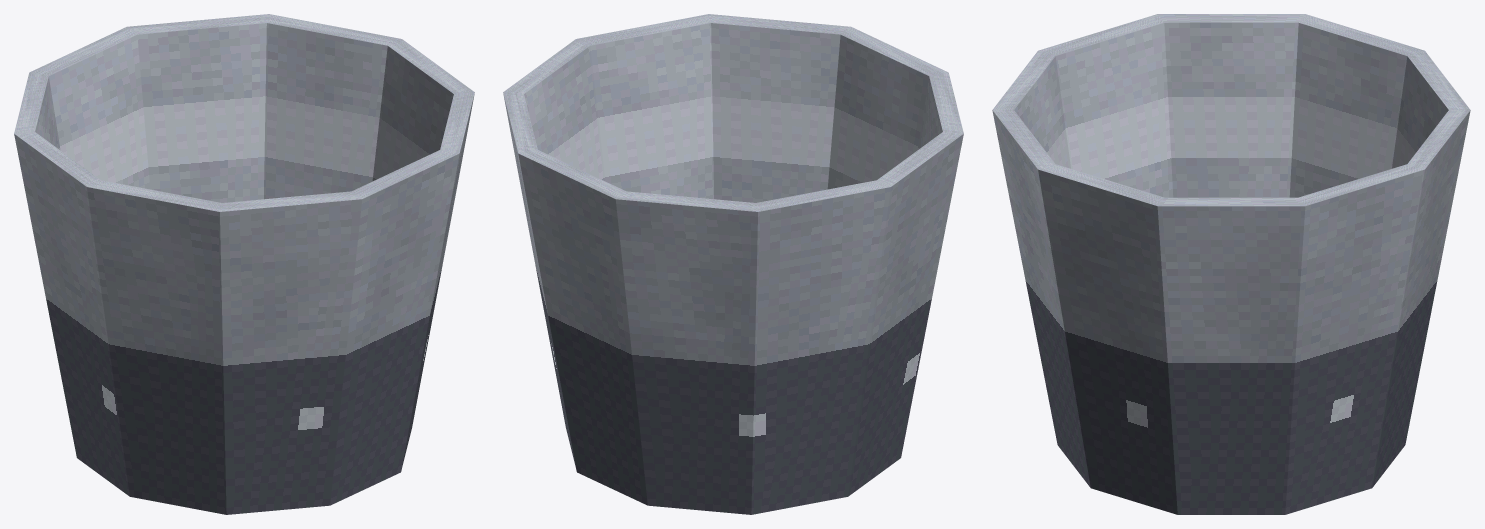
The model's file is balde_de_ferro.glb.
The picture shows the model from 3 angles, left to right: view 1: azimuth 30°, elevation 25°; view 2: azimuth 150°, elevation 25°; view 3: azimuth 270°, elevation 25°; orthographic projection.
Parts seen in each view (by area): view 1: balde_de_ferro; view 2: balde_de_ferro; view 3: balde_de_ferro.
Part boxes in pixels (left/top/right/bottom): balde_de_ferro: left=14, top=14, right=474, bottom=514; balde_de_ferro: left=503, top=14, right=963, bottom=514; balde_de_ferro: left=992, top=14, right=1470, bottom=514.
Bounding box in the file's own units: 0.4185 × 0.34 × 0.44.
1 material, 1 textured.
